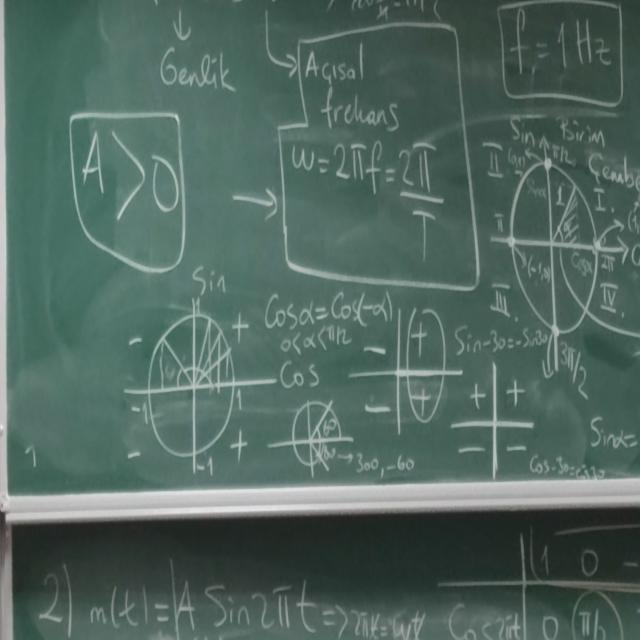image: (484, 116, 629, 361), (120, 271, 276, 475), (448, 518, 629, 640), (353, 298, 458, 431), (449, 351, 537, 476), (271, 394, 360, 484)
math: (85, 558, 434, 640), (286, 137, 450, 267), (257, 282, 395, 392), (75, 115, 187, 235), (554, 333, 634, 462), (512, 14, 616, 84)
text: (296, 39, 402, 131), (154, 37, 246, 102)
